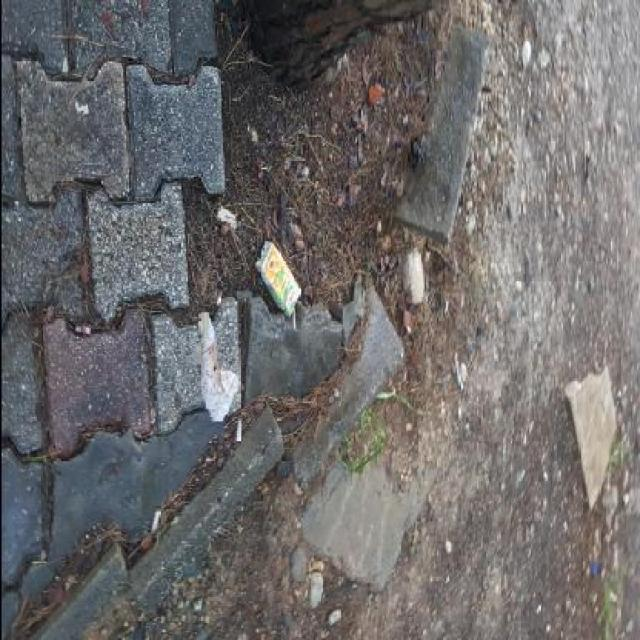cardboard: (323, 254, 400, 300)
